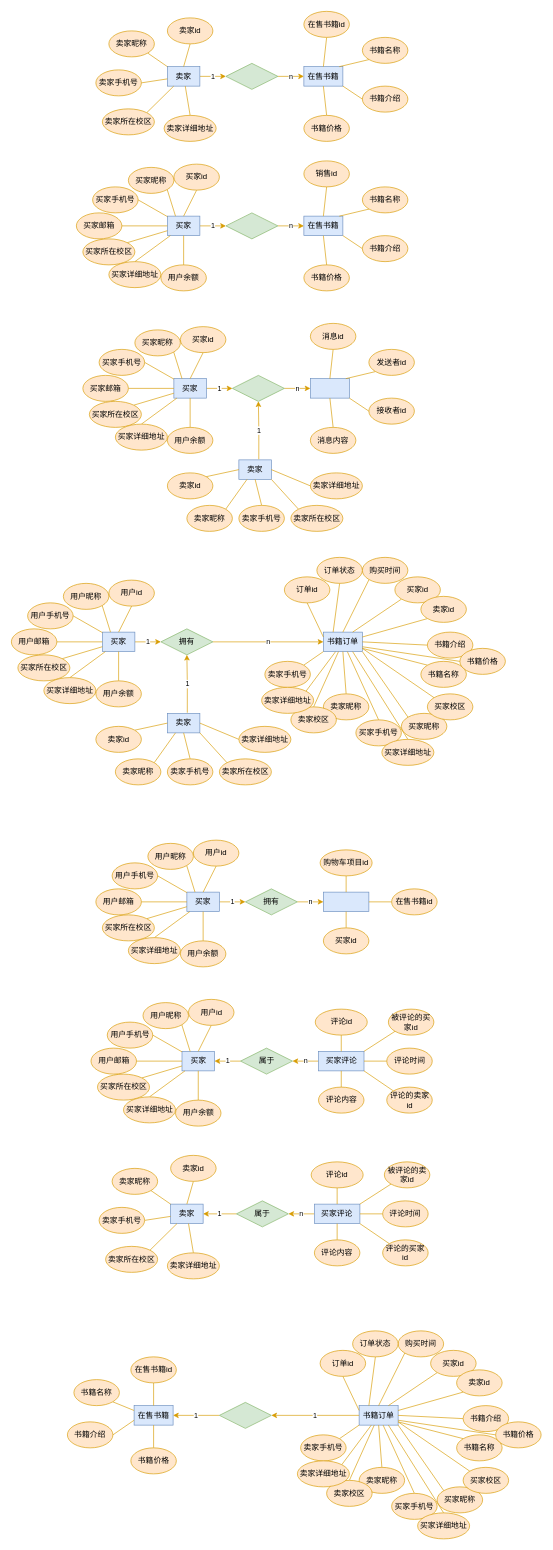
Some shapes in this 553 by 1550 pixel diagram are drawn without their labels. The centre of each missing label's shape, as x and y in pixels:
"对应" goes at point 245,1415.
"接收和发送" goes at point 258,388.
"查看" goes at point 251,225.
"消息" goes at point 329,388.
"编辑" goes at point 251,76.
"购物车书籍" goes at point 346,901.
